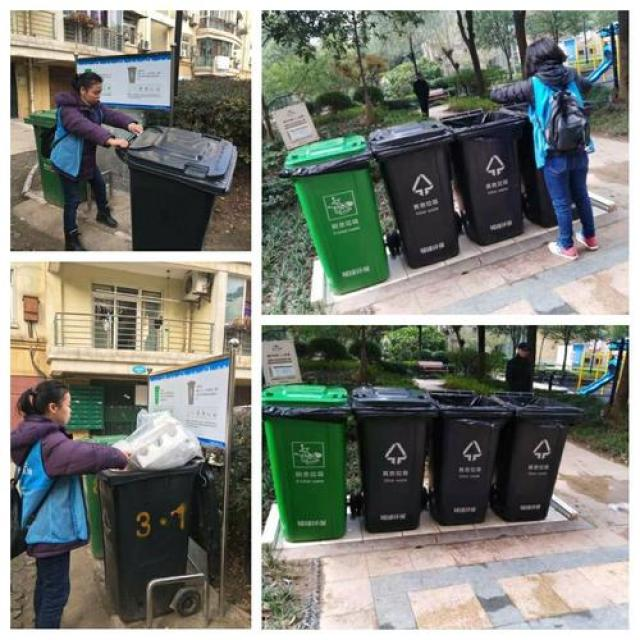garbage_bin: (278, 133, 388, 292), (115, 124, 238, 247), (262, 383, 351, 540), (368, 121, 459, 268), (351, 383, 436, 531), (490, 389, 581, 520), (438, 109, 526, 243), (428, 389, 510, 524), (23, 109, 67, 206)
overflow: (99, 408, 202, 620)
